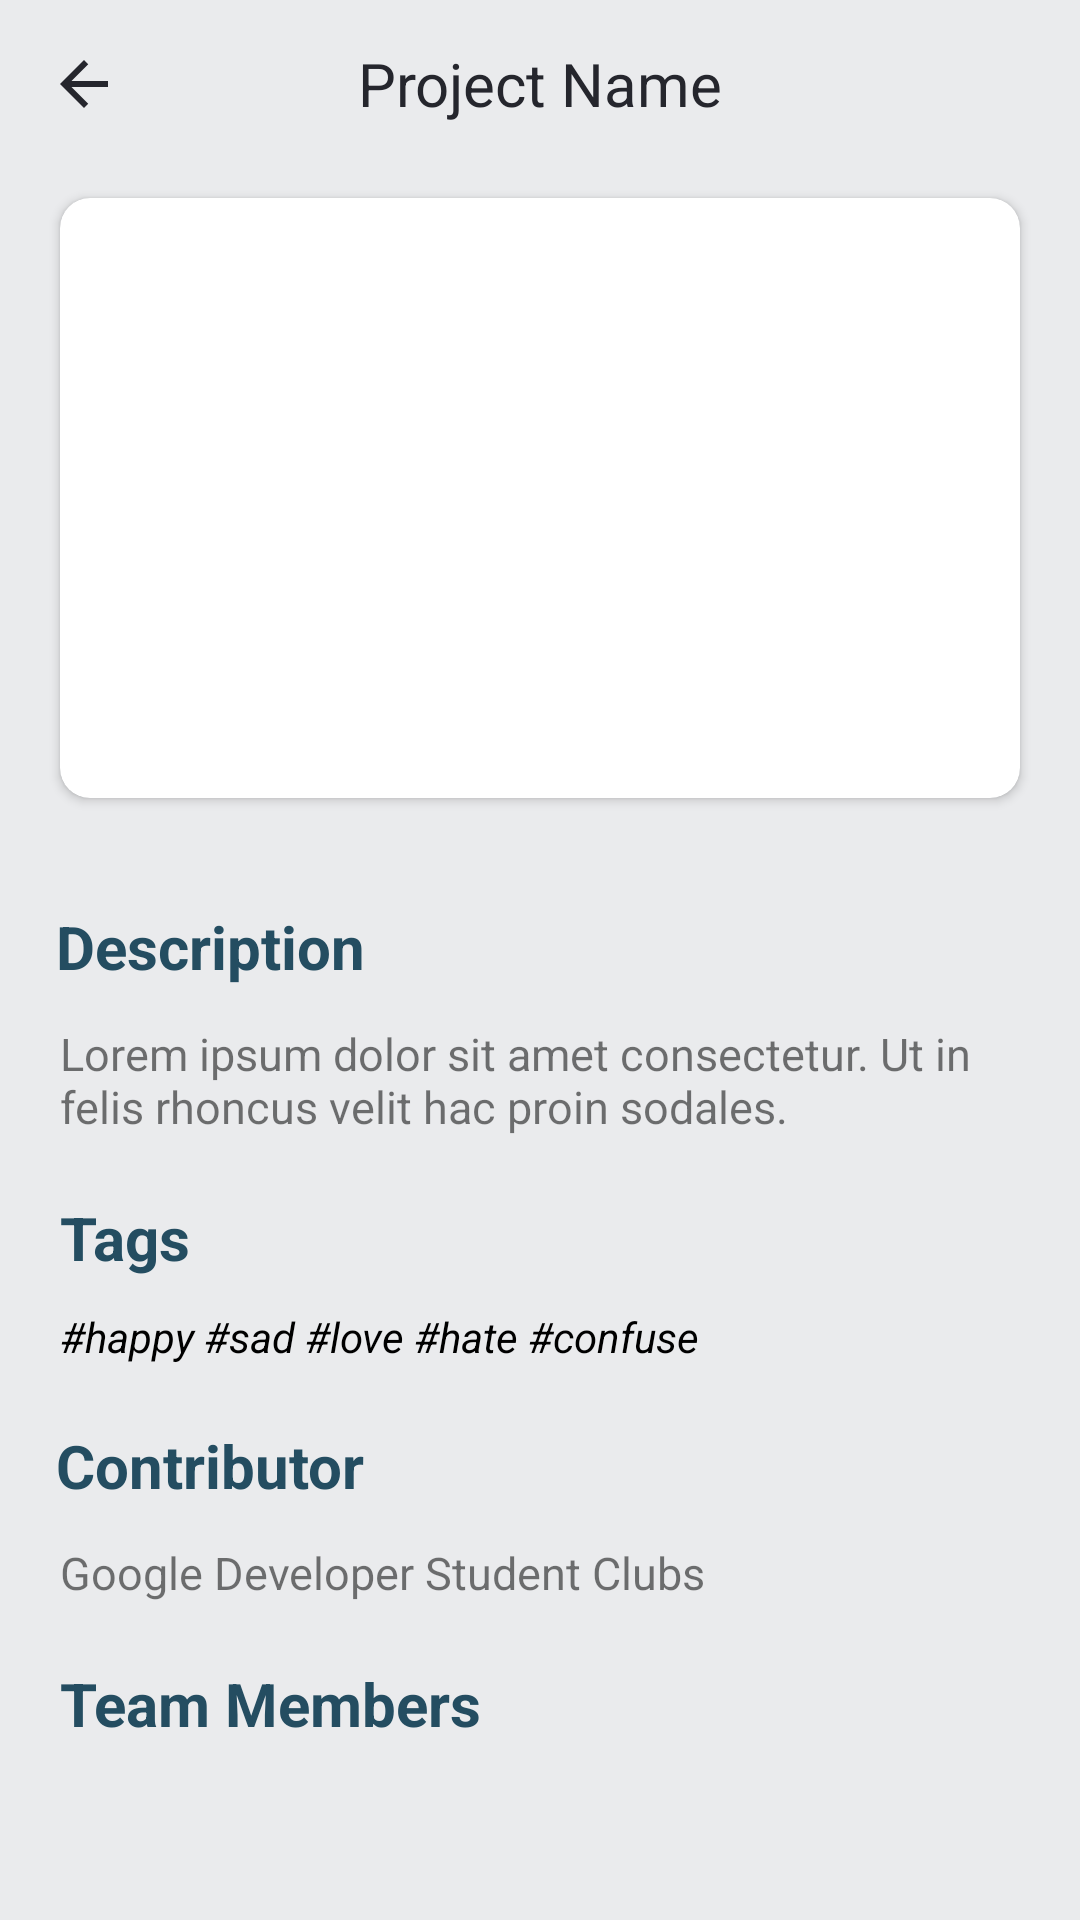

Where icons sit on this 1080w x 1920h app screen, as (x1, y1, x2, y2):
back: (60, 60, 108, 108)
